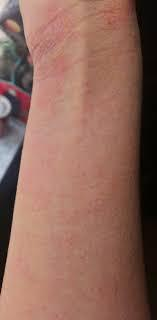Goosebumps: (0, 0, 149, 319)
